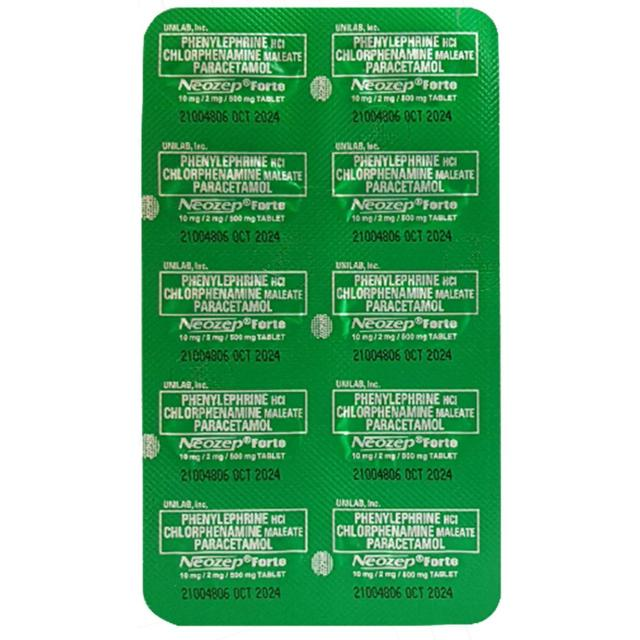blister: (135, 1, 509, 634)
